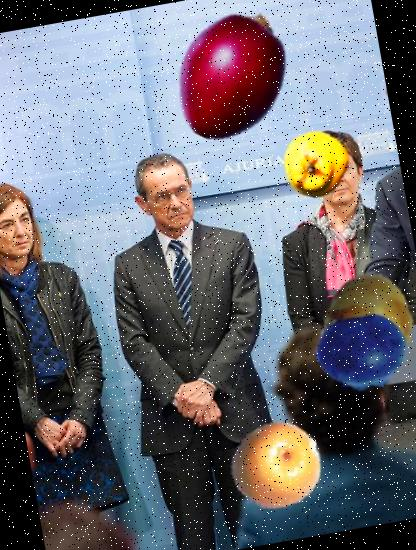Huckleberry: (310, 300, 414, 404)
Kumquats: (224, 412, 330, 520)
Onion: (306, 262, 416, 384)
Quince: (276, 125, 354, 204)
Tamarillo: (151, 0, 312, 155)
